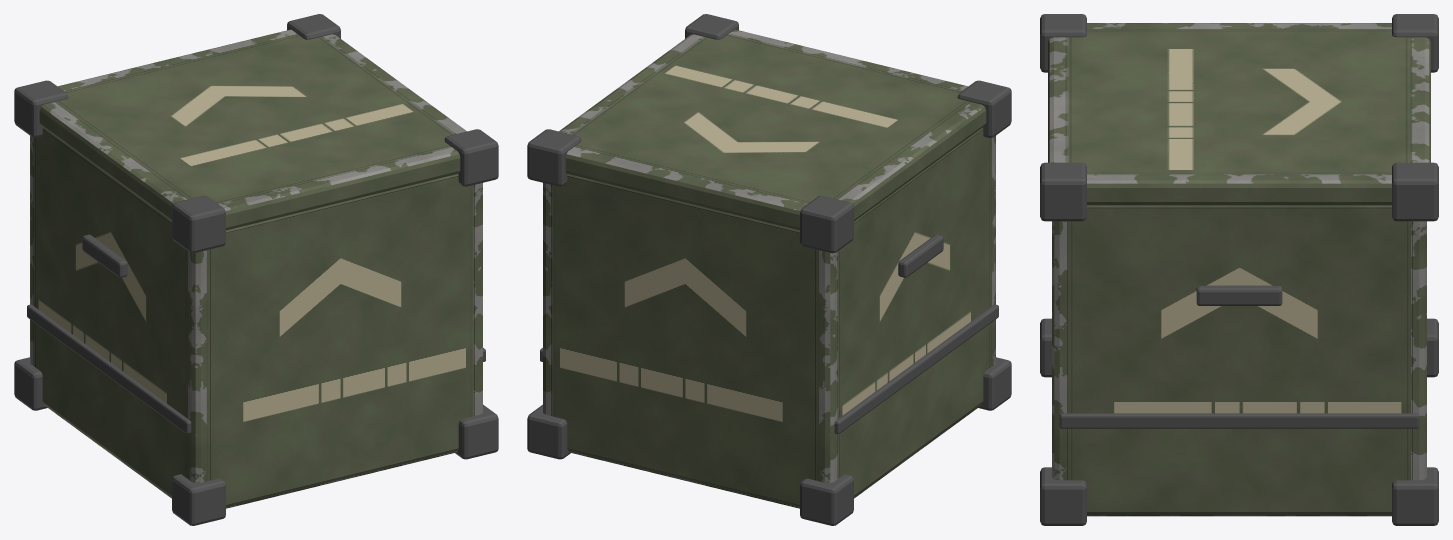
Rendered from crate.glb.
The picture shows the model from 3 angles, left to right: view 1: azimuth 30°, elevation 25°; view 2: azimuth 150°, elevation 25°; view 3: azimuth 270°, elevation 25°; orthographic projection. The views are drawn at different scales.
Parts seen in each view (by area): view 1: PropCrate; view 2: PropCrate; view 3: PropCrate.
Part boxes in pixels (box(x1,y1,x2,y2)): PropCrate: box(14, 14, 498, 525); PropCrate: box(527, 14, 1011, 525); PropCrate: box(1040, 14, 1438, 525).
Size of the model in its own units: 1.03 by 0.98 by 1.02.
Materials: 2 (1 with a texture image).
